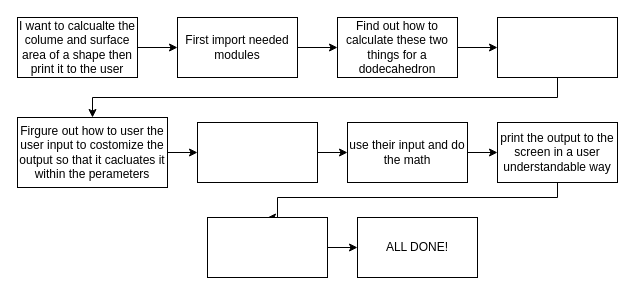
Some shapes in this 635 by 295 pixel diagram are drawn without their labels. The shapes that lost their labels are listed below. From the top down, each one's centre as x and y in pixels, then its label:
At (557,47): "write the math into the program".
At (257,152): "Ask user for their input and save it to a variable".
At (267,247): "make sure the code is acceptable and commented properly".
